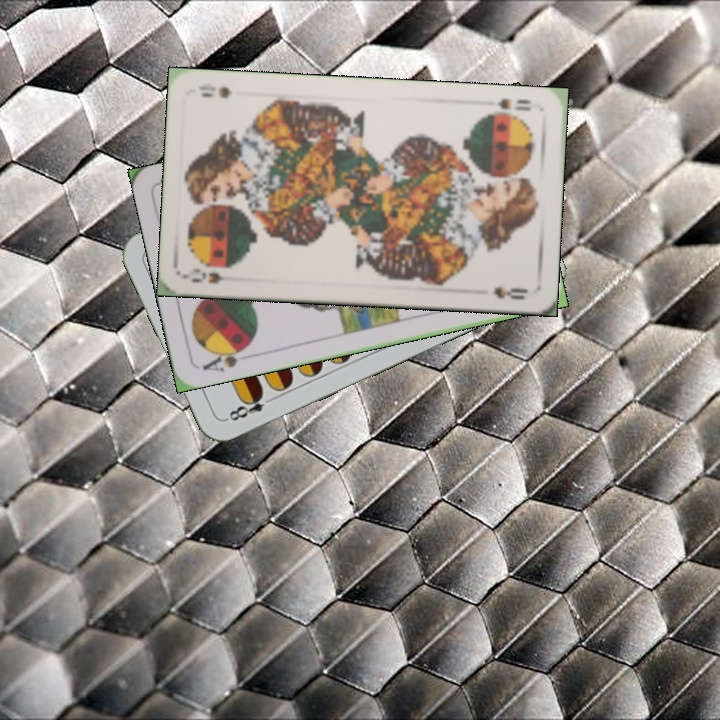E8: (222, 388, 278, 424)
SA: (198, 340, 253, 375)
SO: (184, 265, 226, 286), (494, 94, 534, 114)
